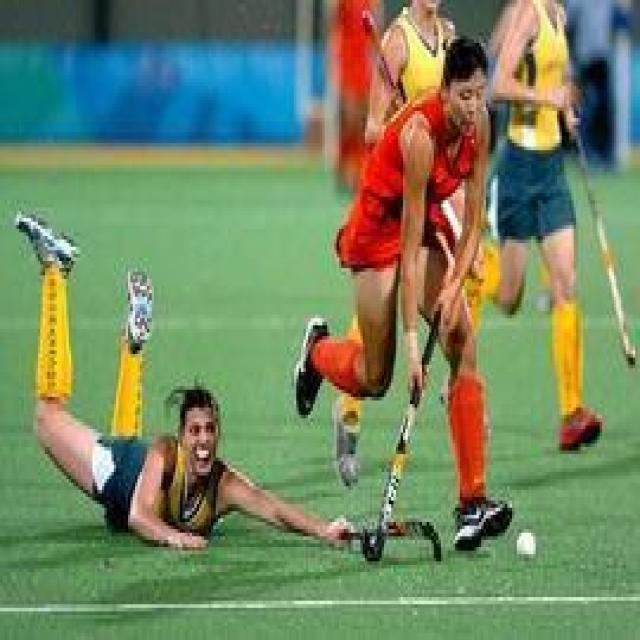fall: (14, 197, 360, 554)
nonfall: (351, 51, 499, 505), (490, 0, 631, 467)
